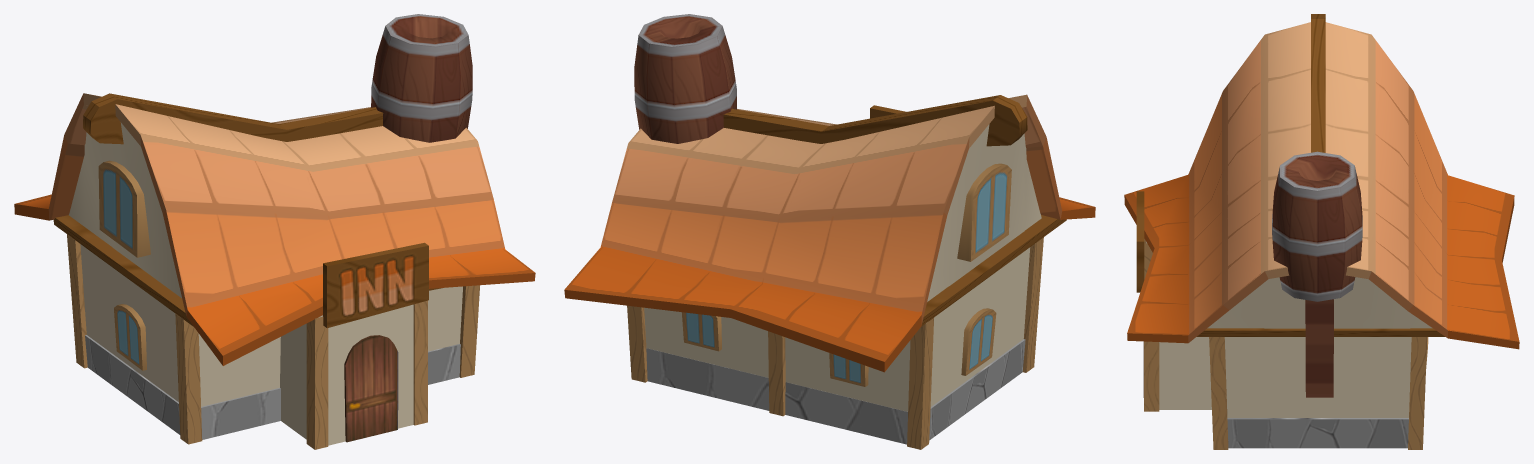
File: building_inn_lv2.FBX
The picture shows the model from 3 angles, left to right: view 1: azimuth 30°, elevation 25°; view 2: azimuth 150°, elevation 25°; view 3: azimuth 270°, elevation 25°; orthographic projection. The views are drawn at different scales.
Visible parts, largest first — view 1: building_inn_roof_lv2, building_inn_lv2, building_inn_main_lv2; view 2: building_inn_roof_lv2, building_inn_lv2, building_inn_main_lv2; view 3: building_inn_roof_lv2, building_inn_lv2, building_inn_main_lv2.
Part boxes in pixels (x1=…): building_inn_roof_lv2: x1=14, y1=93, x2=535, y2=365; building_inn_lv2: x1=53, y1=14, x2=479, y2=449; building_inn_main_lv2: x1=69, y1=122, x2=462, y2=445; building_inn_roof_lv2: x1=564, y1=94, x2=1095, y2=372; building_inn_lv2: x1=627, y1=14, x2=1066, y2=449; building_inn_main_lv2: x1=644, y1=124, x2=1041, y2=411; building_inn_roof_lv2: x1=1124, y1=22, x2=1519, y2=349; building_inn_lv2: x1=1136, y1=14, x2=1444, y2=449; building_inn_main_lv2: x1=1146, y1=241, x2=1432, y2=417.
Size of the model in its own units: 404 by 318 by 390.
